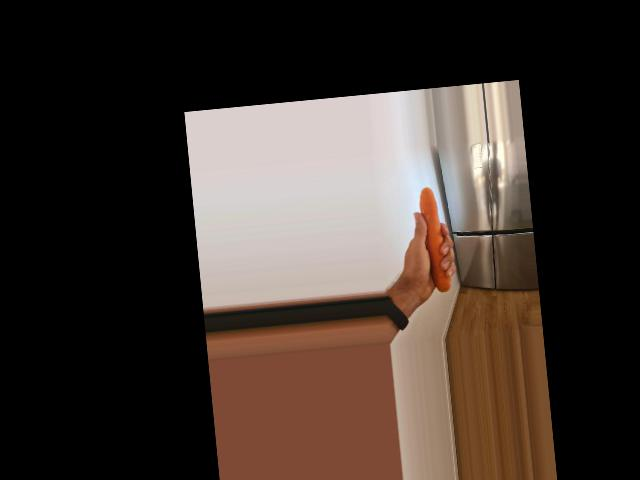carrot: (418, 186, 451, 295)
